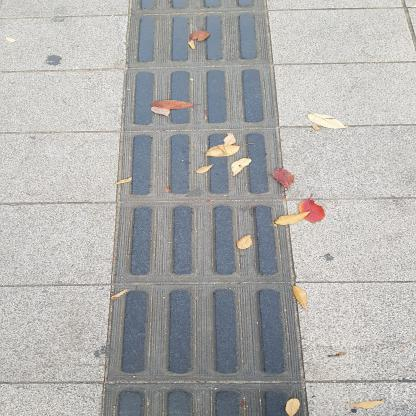podotacti: (77, 0, 334, 415)
